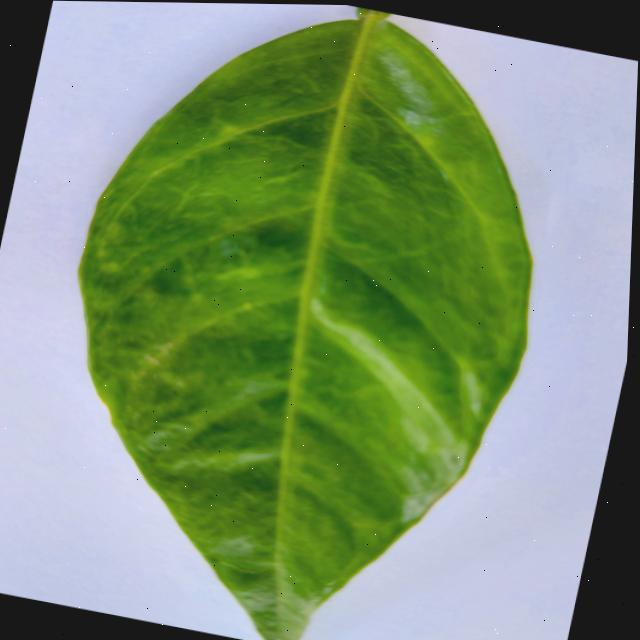greening: (79, 7, 530, 640)
